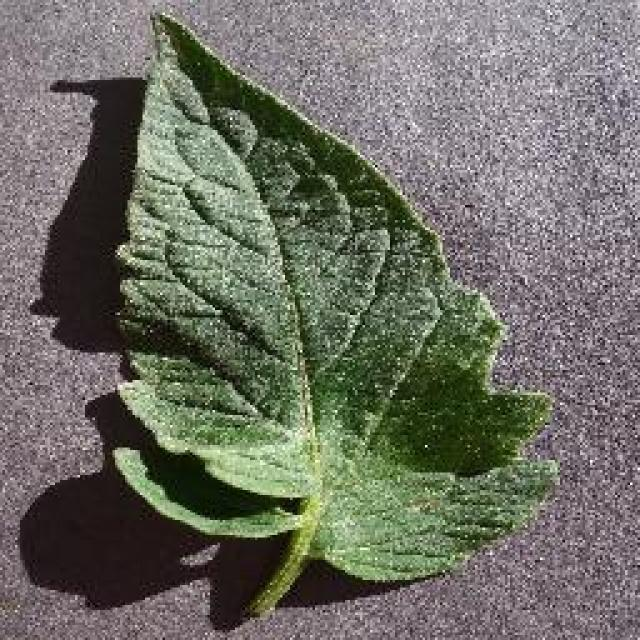Tomato_Healthy: (96, 9, 565, 592)
